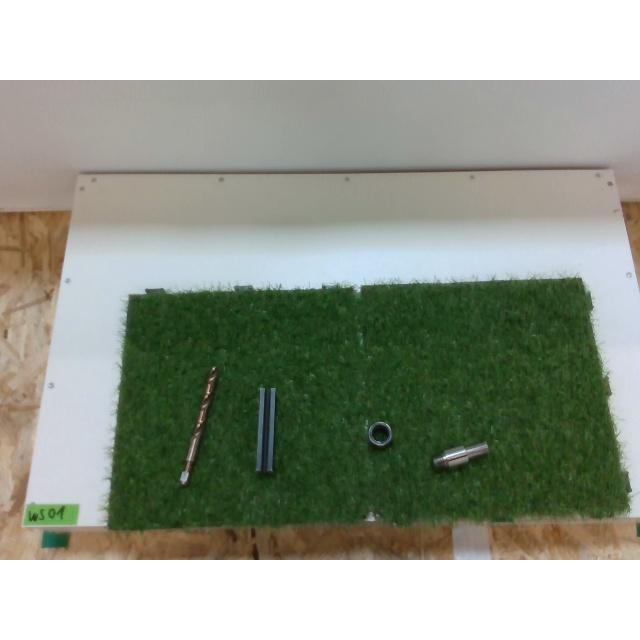Axis2: (432, 442, 488, 470)
Bearing2: (368, 420, 392, 448)
Drill: (179, 366, 219, 486)
F20_20_B: (255, 386, 277, 472)
